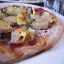pizza: (1, 6, 63, 64)
